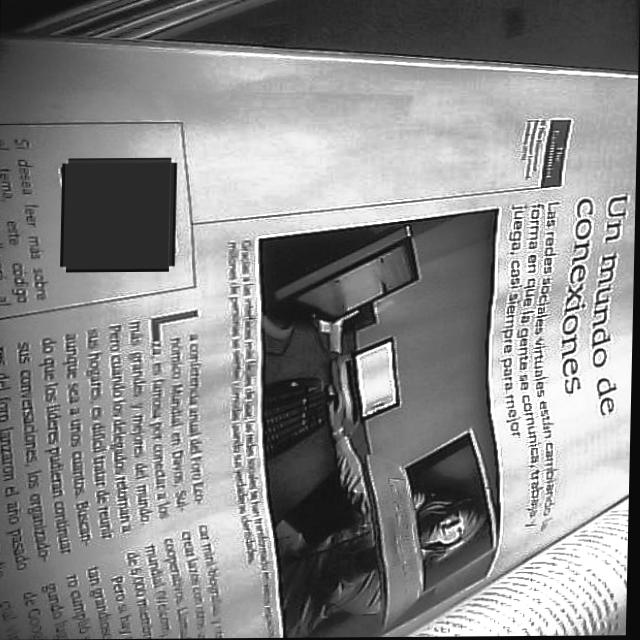qr_code: (63, 160, 174, 270)
